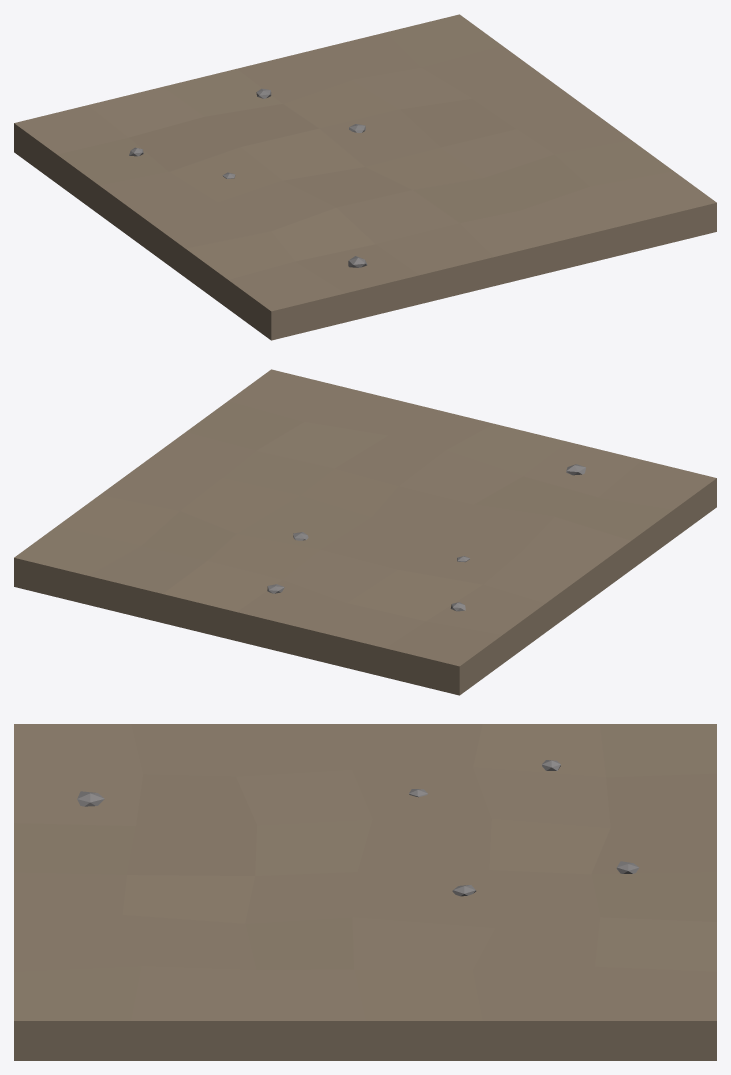
File: floor_yard.glb
3 renders of one model, top to bottom at view 1: azimuth 30°, elevation 25°; view 2: azimuth 150°, elevation 25°; view 3: azimuth 270°, elevation 25°, orthographic. The views are drawn at different scales.
Parts seen in each view (by area): view 1: floor_yard; view 2: floor_yard; view 3: floor_yard.
Part boxes in pixels (<box>): floor_yard: <box>14,14,716,340</box>; floor_yard: <box>14,369,716,695</box>; floor_yard: <box>14,724,716,1060</box>.
Size of the model in its own units: 4 by 0.295 by 4.
